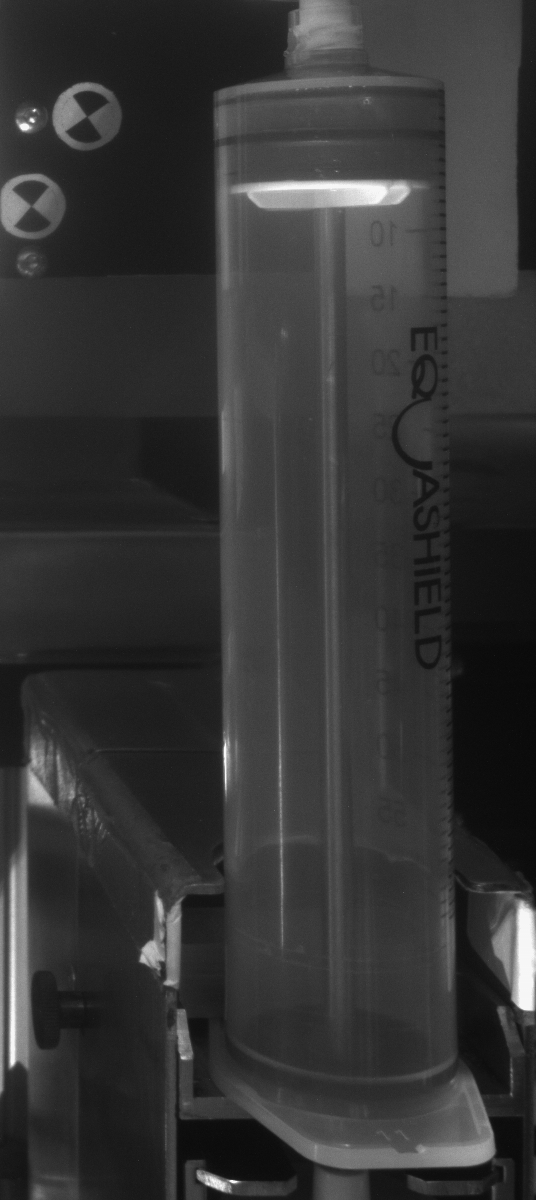piston: (212, 106, 451, 211)
